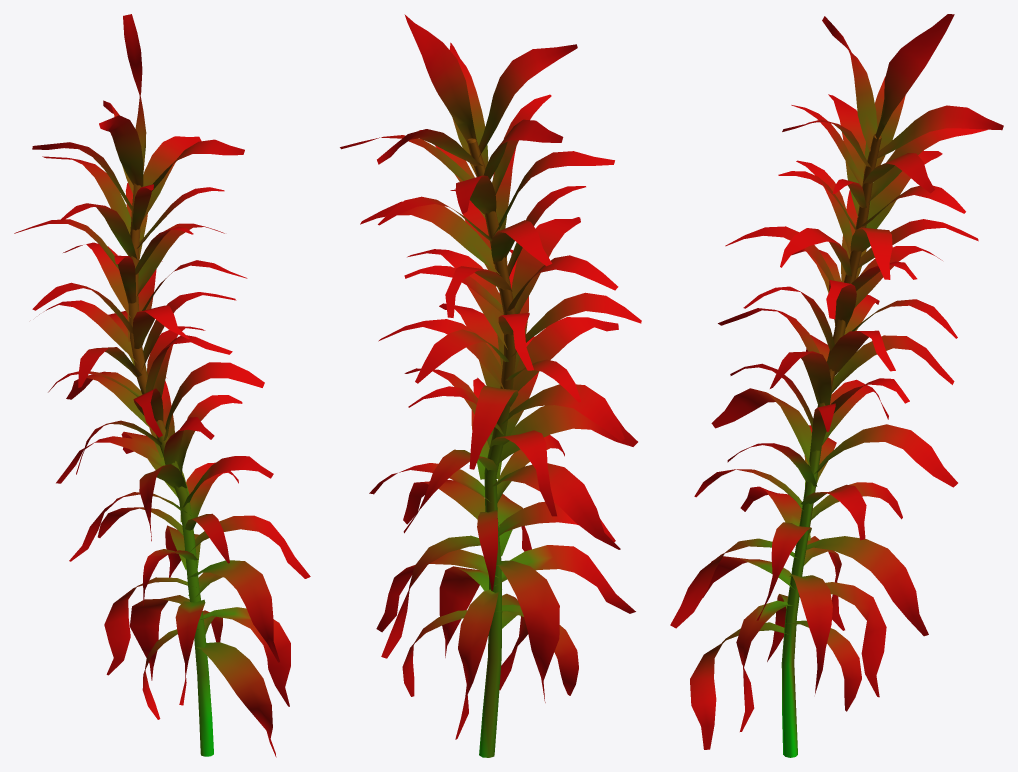
The model's file is Dragon Tree_LOD0_Var3_siumT.fbx.
3 views of the same model, side by side, from view 1: azimuth 30°, elevation 25°; view 2: azimuth 150°, elevation 25°; view 3: azimuth 270°, elevation 25° (orthographic). The views are drawn at different scales.
Parts seen in each view (by area): view 1: _0599_Var3_LOD0; view 2: _0599_Var3_LOD0; view 3: _0599_Var3_LOD0.
Boxes of the visible parts, <box> form: _0599_Var3_LOD0: <box>14,14,310,757</box>; _0599_Var3_LOD0: <box>340,14,641,757</box>; _0599_Var3_LOD0: <box>670,14,1003,757</box>.
Bounding box in the file's own units: 43.95 × 125 × 51.33.
